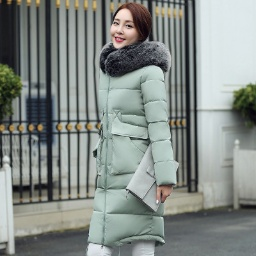face: (100, 1, 158, 49)
